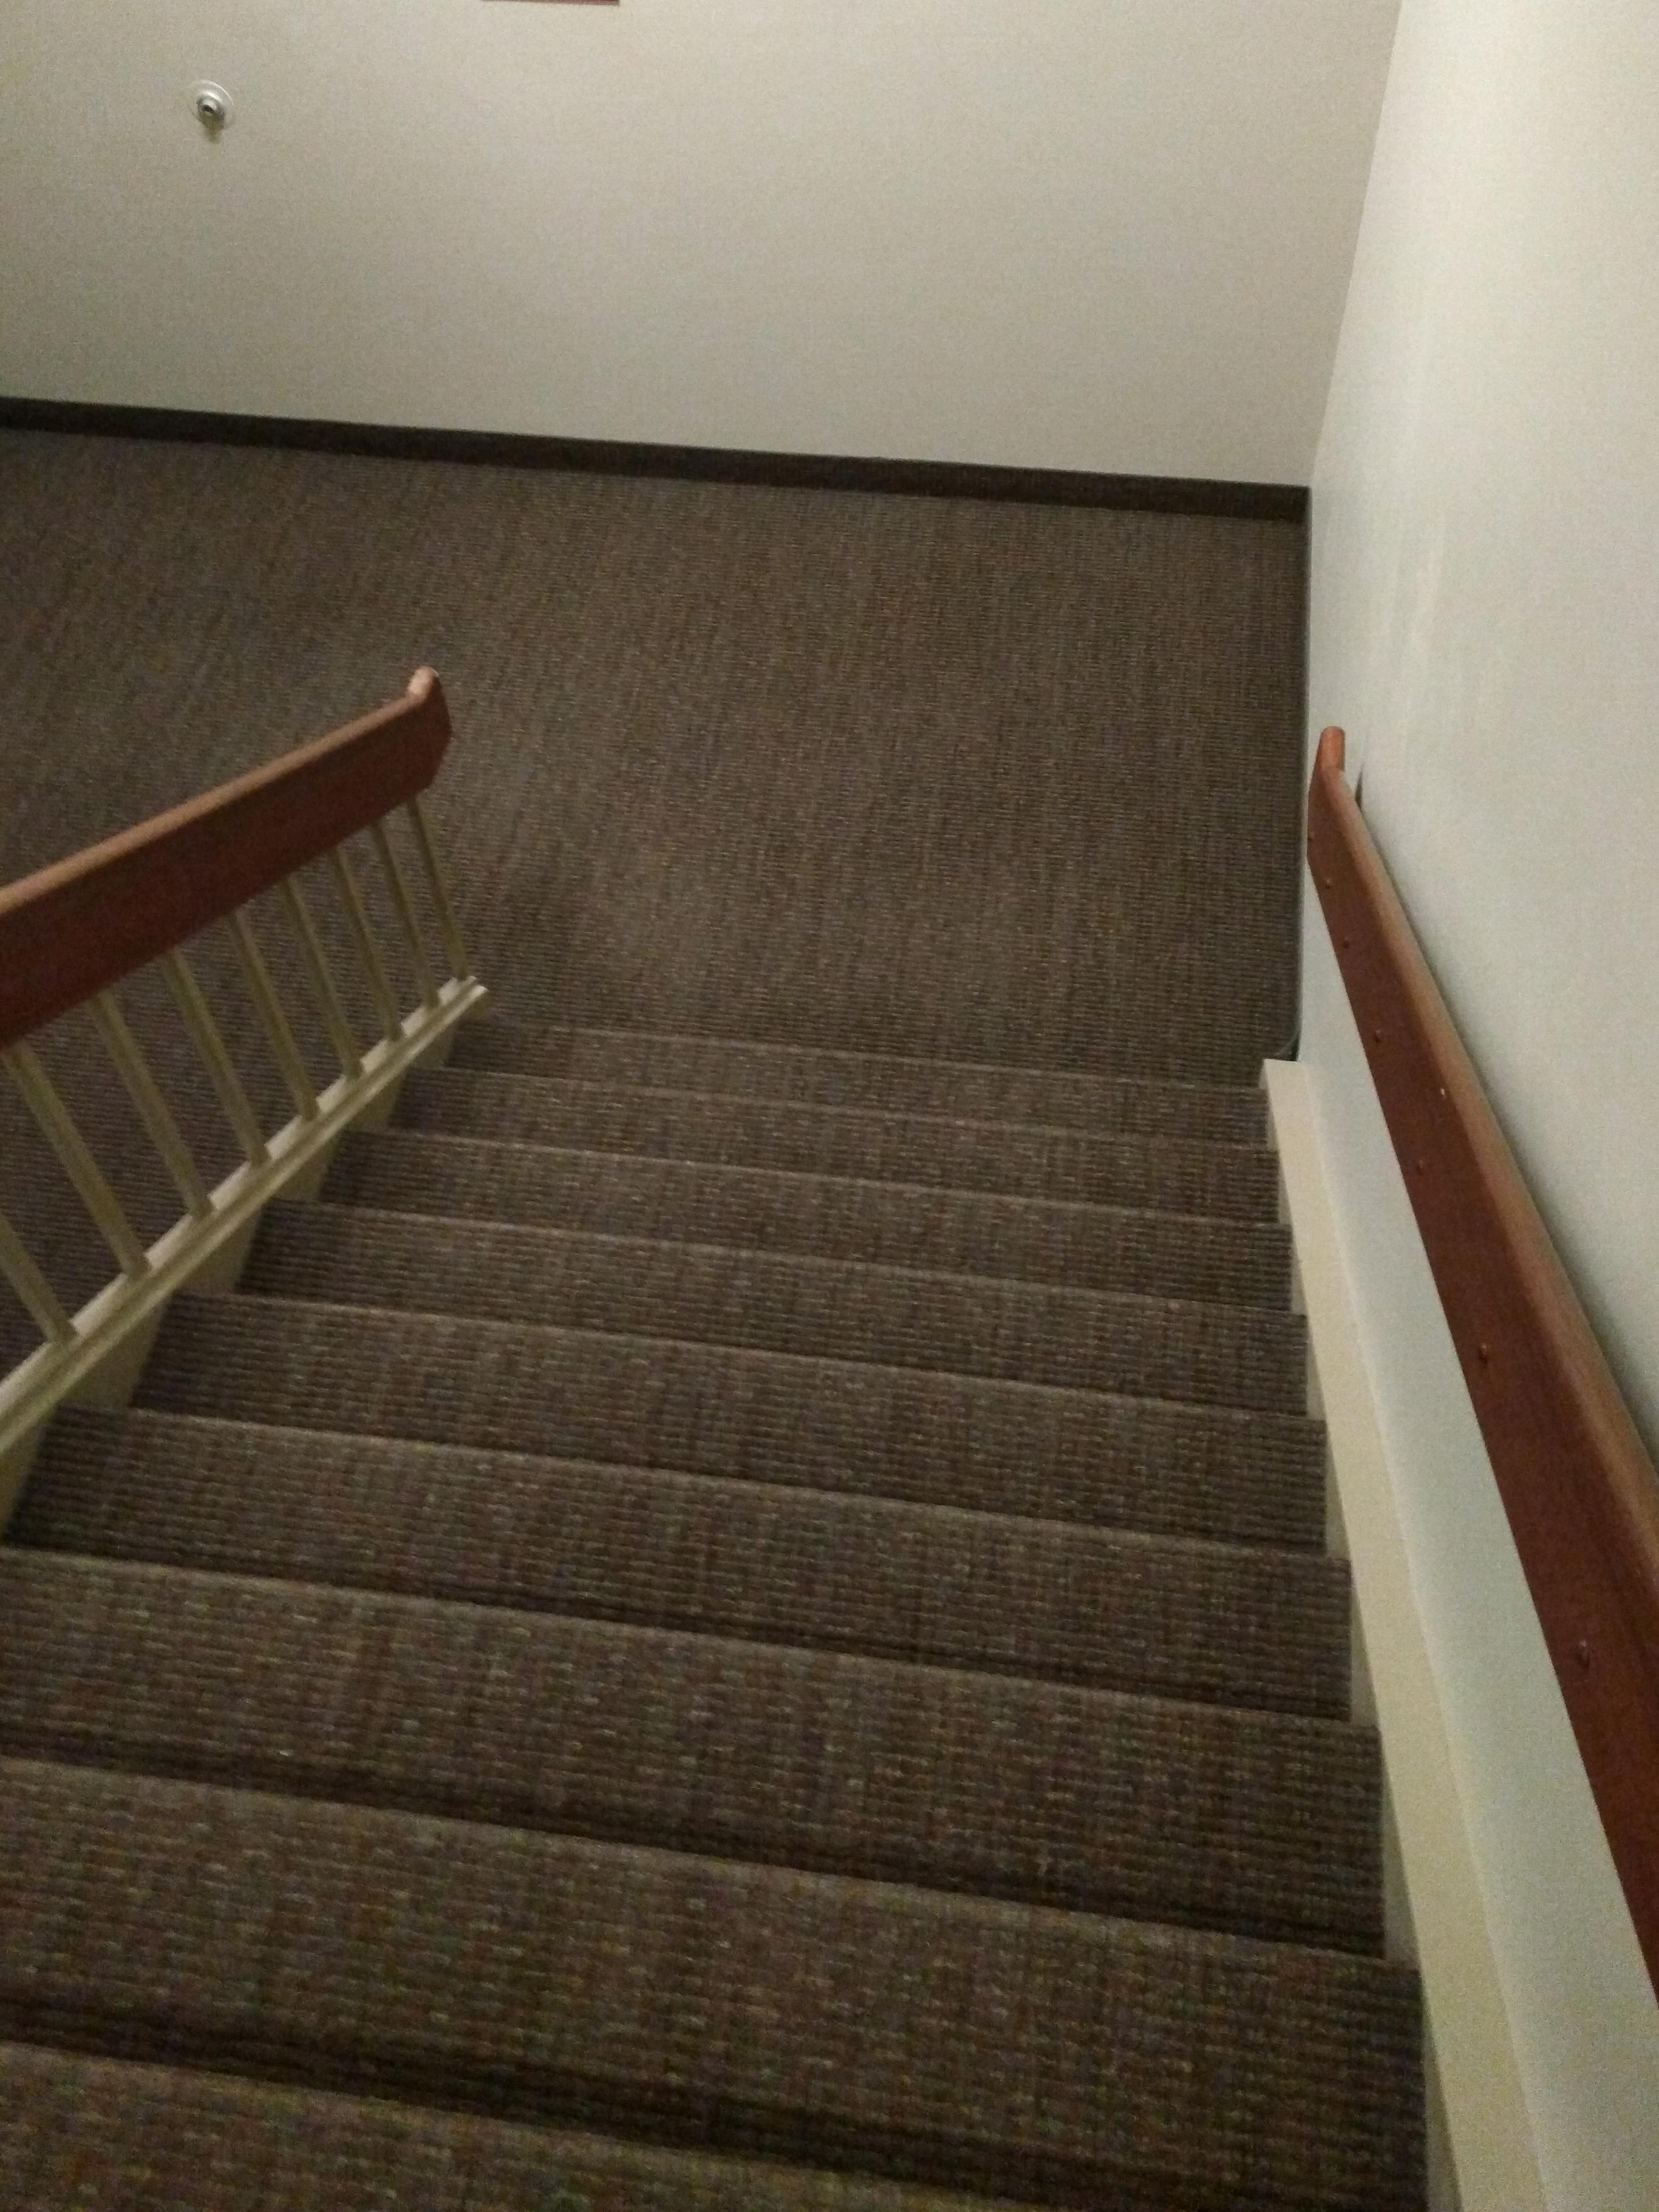stairs_down: (5, 998, 1502, 2210)
